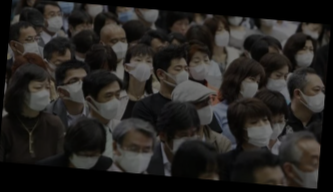with_mask: (118, 140, 154, 173), (246, 114, 275, 149), (26, 82, 52, 112), (172, 129, 200, 156), (302, 83, 325, 115), (130, 53, 153, 83), (100, 88, 120, 121), (71, 148, 102, 169), (194, 96, 215, 126), (66, 74, 88, 102), (190, 54, 212, 82), (302, 152, 319, 188), (267, 68, 289, 92), (20, 31, 41, 56), (295, 43, 315, 69), (108, 35, 129, 59), (171, 62, 191, 87), (241, 75, 261, 100), (45, 8, 64, 34), (268, 115, 287, 141), (50, 58, 69, 81), (213, 25, 231, 48), (304, 25, 321, 41)
without_mask: (174, 19, 190, 36)
